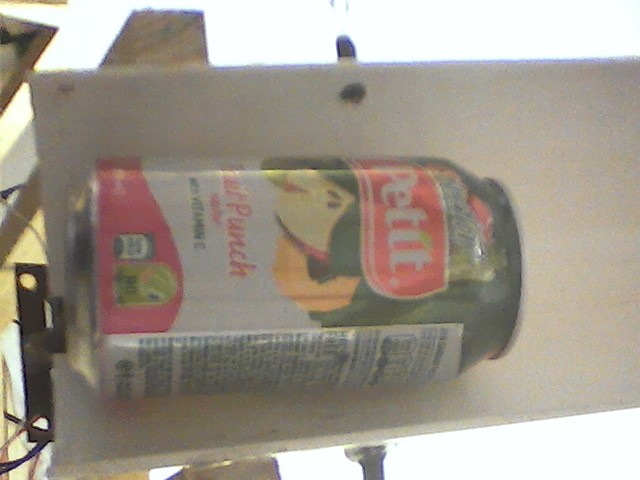lata: (56, 143, 533, 414)
